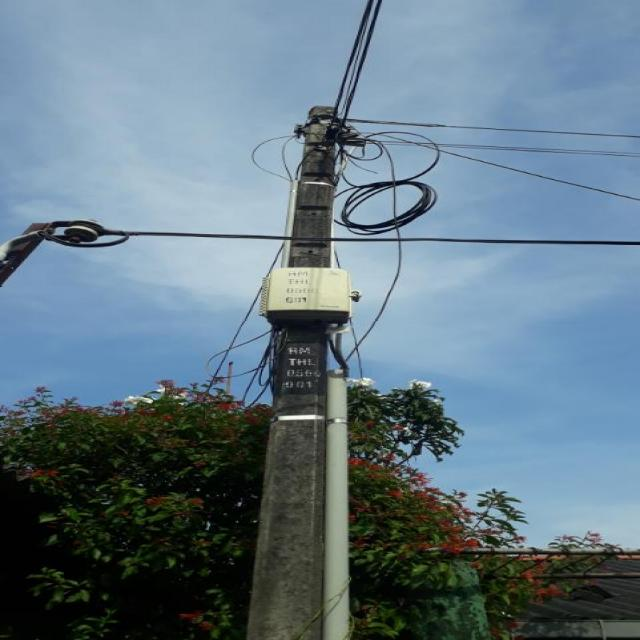light_pole: (237, 101, 387, 640)
